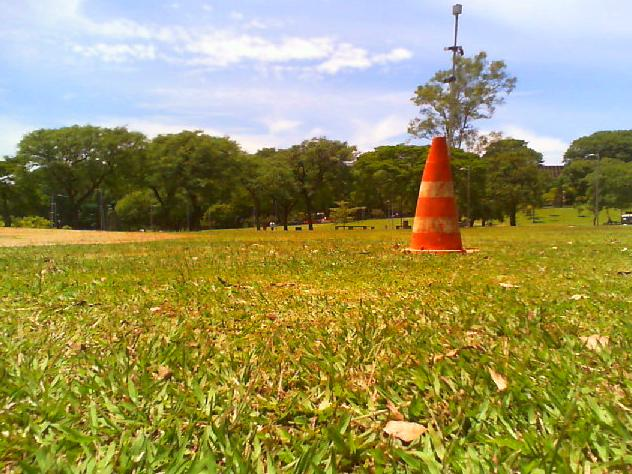0 cone: (396, 135, 479, 253)
